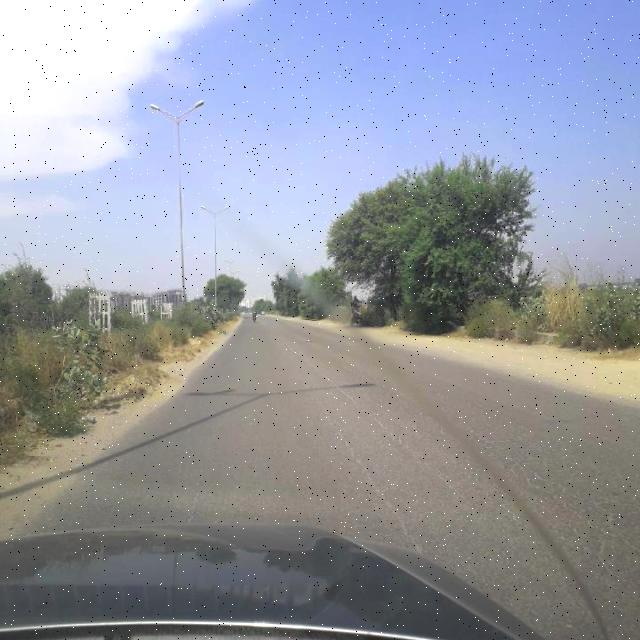D00: (298, 348, 470, 500), (324, 404, 420, 542)
D20: (486, 432, 638, 597)
